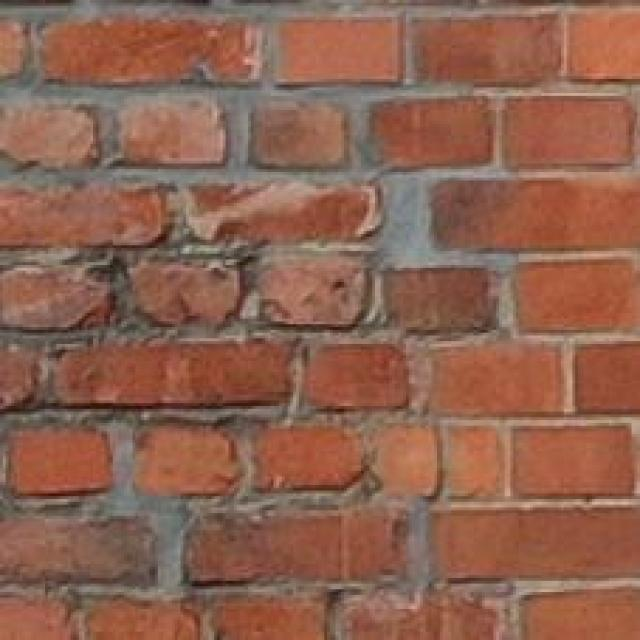Crack: (23, 186, 306, 404)
